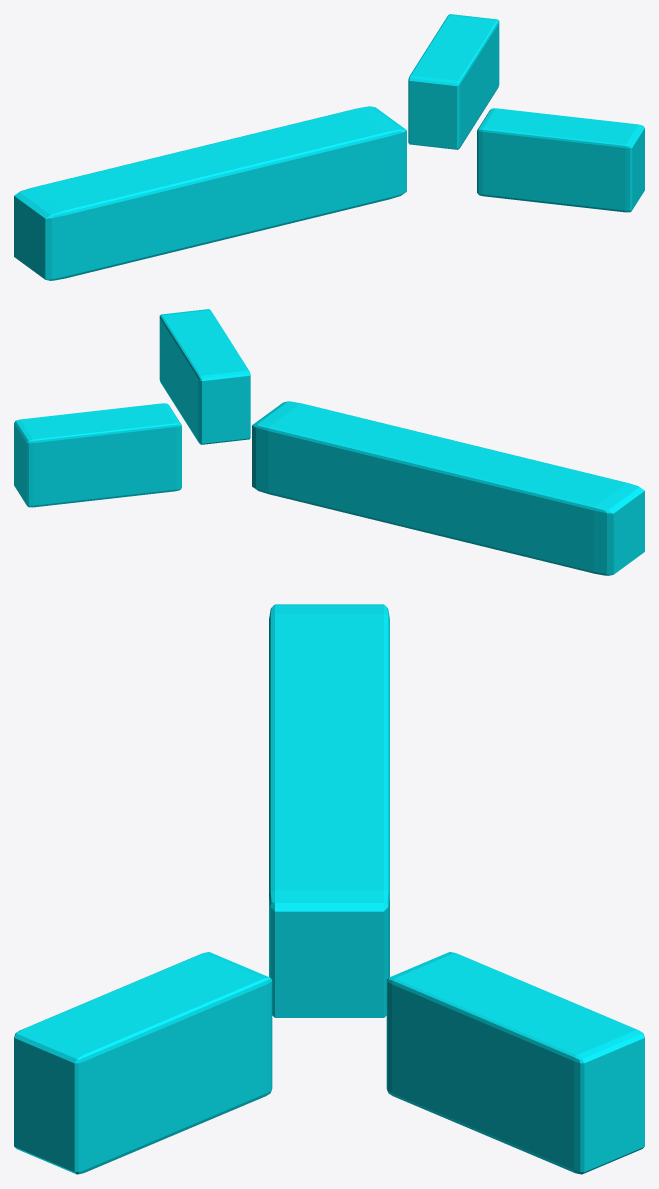
Rendered from Power_Rail.fbx.
3 renders of one model, top to bottom at view 1: azimuth 30°, elevation 25°; view 2: azimuth 150°, elevation 25°; view 3: azimuth 270°, elevation 25°, orthographic. The views are drawn at different scales.
Visible parts, largest first — view 1: Rail_Beam, Rail_Arrow_B, Rail_Arrow_A; view 2: Rail_Beam, Rail_Arrow_A, Rail_Arrow_B; view 3: Rail_Beam, Rail_Arrow_A, Rail_Arrow_B.
Part boxes in pixels (box(x1,y1,x2,y2)): Rail_Beam: box(14, 106, 406, 280); Rail_Arrow_B: box(477, 108, 644, 212); Rail_Arrow_A: box(408, 14, 499, 149); Rail_Beam: box(252, 401, 644, 575); Rail_Arrow_A: box(14, 403, 181, 507); Rail_Arrow_B: box(159, 309, 250, 444); Rail_Beam: box(269, 604, 389, 1017); Rail_Arrow_A: box(386, 952, 644, 1174); Rail_Arrow_B: box(14, 952, 272, 1174).
Size of the model in its own units: 1.17 by 0.14 by 0.6772.
